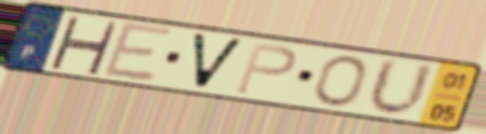E: (99, 19, 176, 84)
H: (46, 14, 121, 77)
O: (311, 54, 370, 109)
P: (232, 40, 299, 97)
U: (364, 55, 439, 120)
V: (189, 30, 249, 93)
